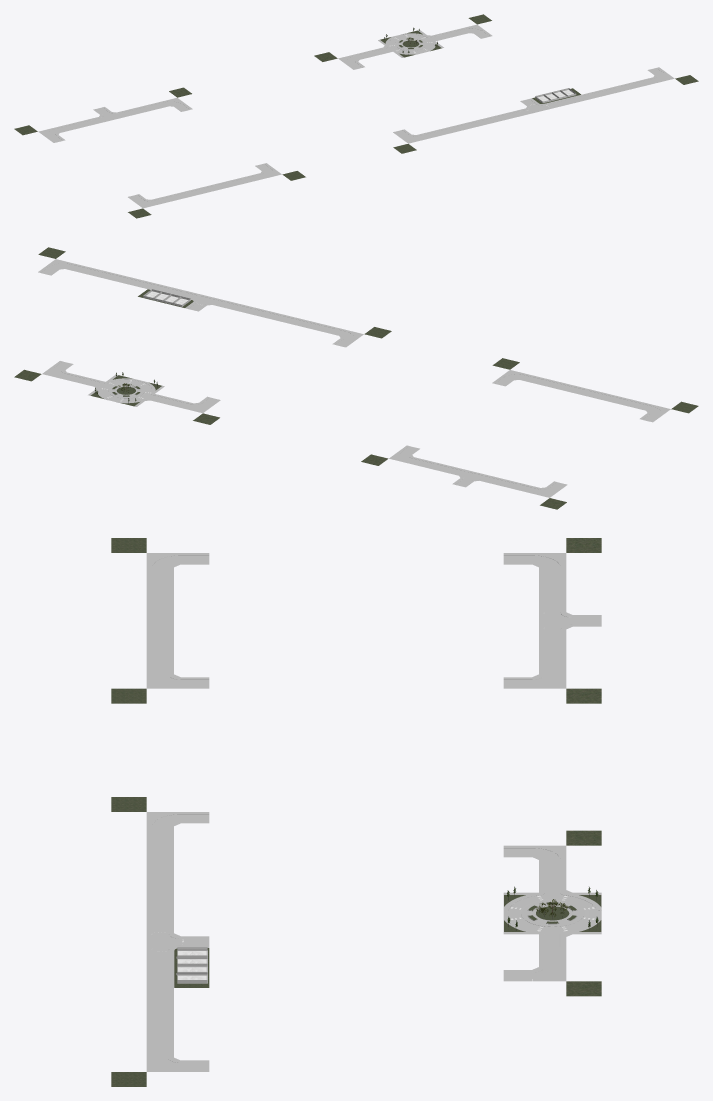
File: Border-Block-05.fbx
The picture shows the model from 3 angles, top to bottom: view 1: azimuth 30°, elevation 25°; view 2: azimuth 150°, elevation 25°; view 3: azimuth 270°, elevation 25°; orthographic projection. The views are drawn at different scales.
Parts seen in each view (by area): view 1: BD-TR3, BD-TR3-Sidewalk, BD-BL-Sidewalk, BD-TR2-Sidewalk, BD-TR-Sidewalk, BD-BL, BD-TR2, BD-TR; view 2: BD-TR3, BD-BL-Sidewalk, BD-TR3-Sidewalk, BD-TR2-Sidewalk, BD-TR-Sidewalk, BD-BL, BD-TR2, BD-TR; view 3: BD-TR3, BD-BL-Sidewalk, BD-TR3-Sidewalk, BD-TR2-Sidewalk, BD-BL, BD-TR-Sidewalk, BD-TR2, BD-TR.
Boxes of the visible parts, left/top/right/bottom form: BD-TR3: left=395, top=68, right=665, bottom=139; BD-TR3-Sidewalk: left=393, top=67, right=698, bottom=153; BD-BL-Sidewalk: left=314, top=14, right=492, bottom=69; BD-TR2-Sidewalk: left=14, top=87, right=192, bottom=142; BD-TR-Sidewalk: left=128, top=163, right=305, bottom=218; BD-BL: left=347, top=28, right=489, bottom=69; BD-TR2: left=47, top=101, right=190, bottom=142; BD-TR: left=130, top=163, right=272, bottom=204; BD-TR3: left=41, top=263, right=353, bottom=346; BD-BL-Sidewalk: left=14, top=361, right=220, bottom=424; BD-TR3-Sidewalk: left=38, top=247, right=391, bottom=347; BD-TR2-Sidewalk: left=361, top=445, right=567, bottom=509; BD-TR-Sidewalk: left=492, top=358, right=698, bottom=422; BD-BL: left=52, top=361, right=217, bottom=408; BD-TR2: left=399, top=446, right=564, bottom=493; BD-TR: left=495, top=374, right=660, bottom=421; BD-TR3: left=152, top=814, right=209, bottom=1069; BD-BL-Sidewalk: left=503, top=830, right=601, bottom=996; BD-TR3-Sidewalk: left=111, top=797, right=209, bottom=1086; BD-TR2-Sidewalk: left=503, top=538, right=601, bottom=703; BD-BL: left=503, top=848, right=601, bottom=978; BD-TR-Sidewalk: left=111, top=538, right=209, bottom=703; BD-TR2: left=503, top=555, right=601, bottom=686; BD-TR: left=152, top=555, right=209, bottom=686.
Size of what is drawn, in the model's own units: 1325 by 16.14 by 500.
